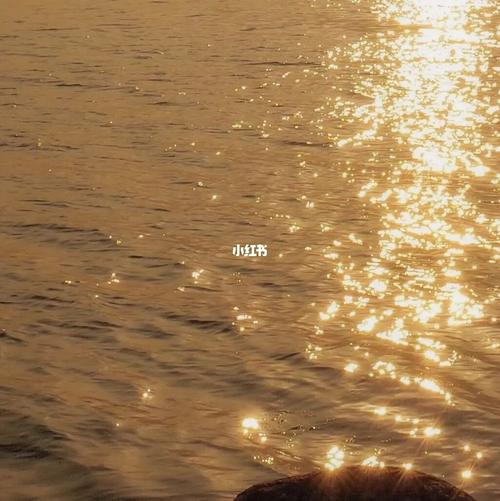sea_river: (7, 83, 487, 470)
